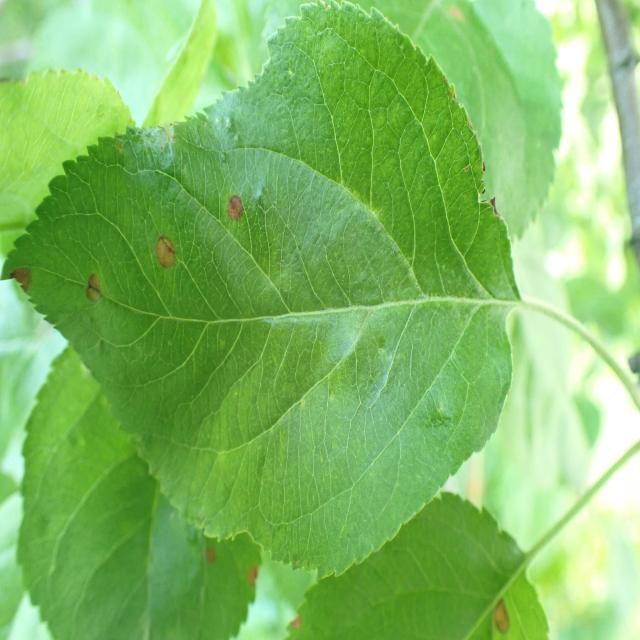Black Rot: (473, 563, 516, 640), (0, 253, 54, 314), (155, 217, 188, 292), (212, 174, 254, 230), (193, 542, 241, 586), (78, 266, 107, 322), (274, 598, 310, 640), (244, 545, 259, 604)
